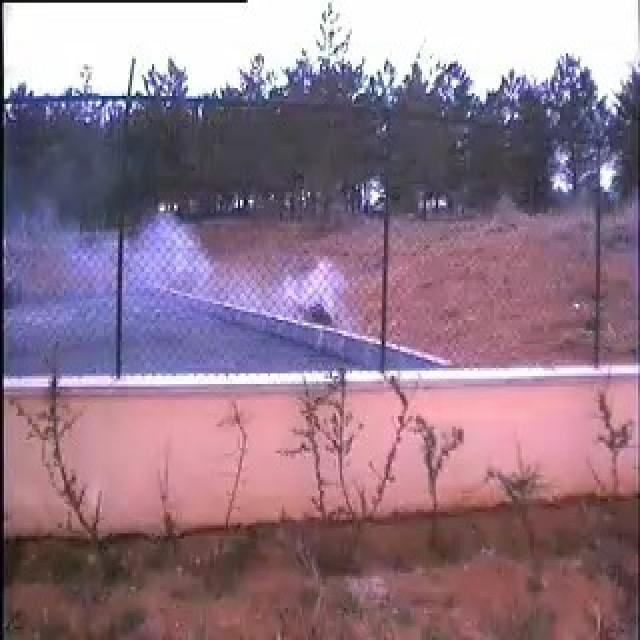smoke: (57, 183, 348, 353)
